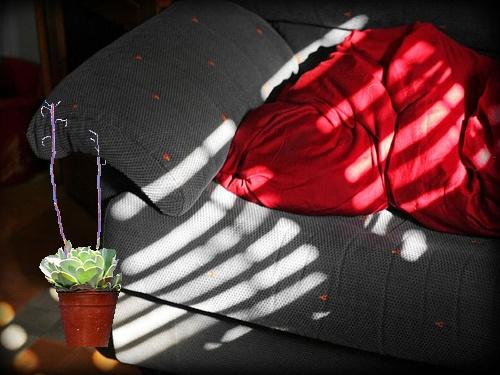tampered: (40, 101, 122, 347)
